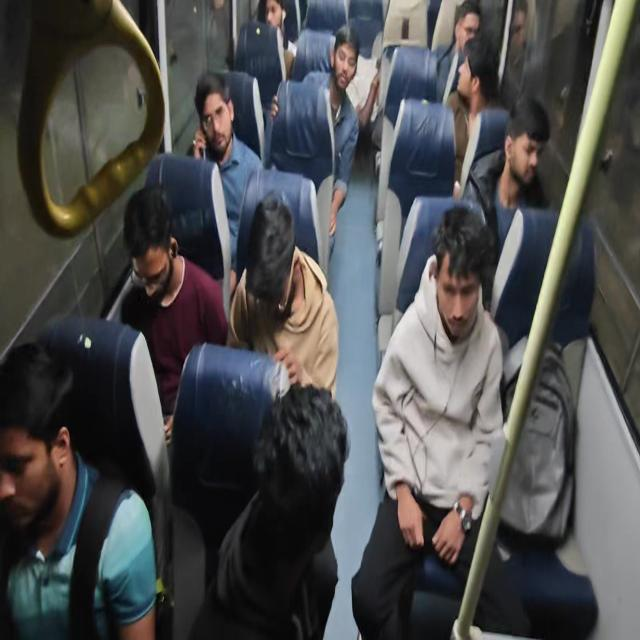person: (7, 322, 91, 581), (233, 147, 301, 314), (130, 171, 191, 356), (248, 392, 315, 544), (514, 116, 590, 249), (192, 58, 262, 176), (442, 213, 486, 363), (357, 39, 402, 147), (261, 0, 304, 56), (462, 59, 496, 123), (322, 28, 354, 90), (458, 1, 483, 66)
